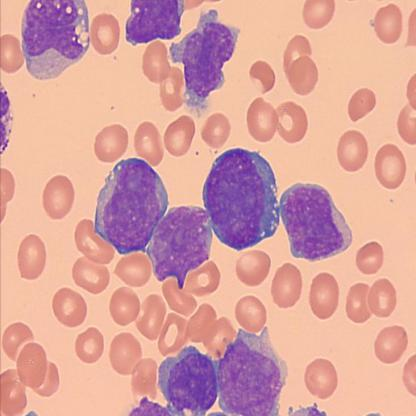Blast: (202, 146, 280, 254), (90, 155, 170, 260), (167, 7, 243, 112), (144, 202, 215, 292), (280, 180, 354, 264)
